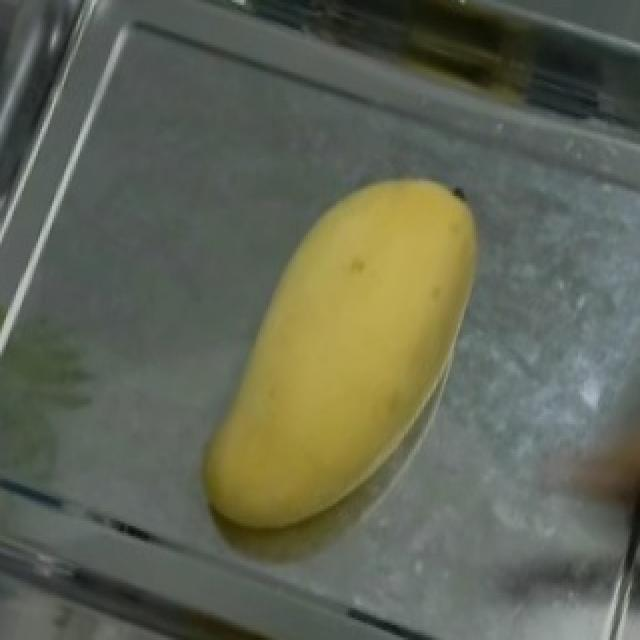fruit: (186, 129, 542, 509)
